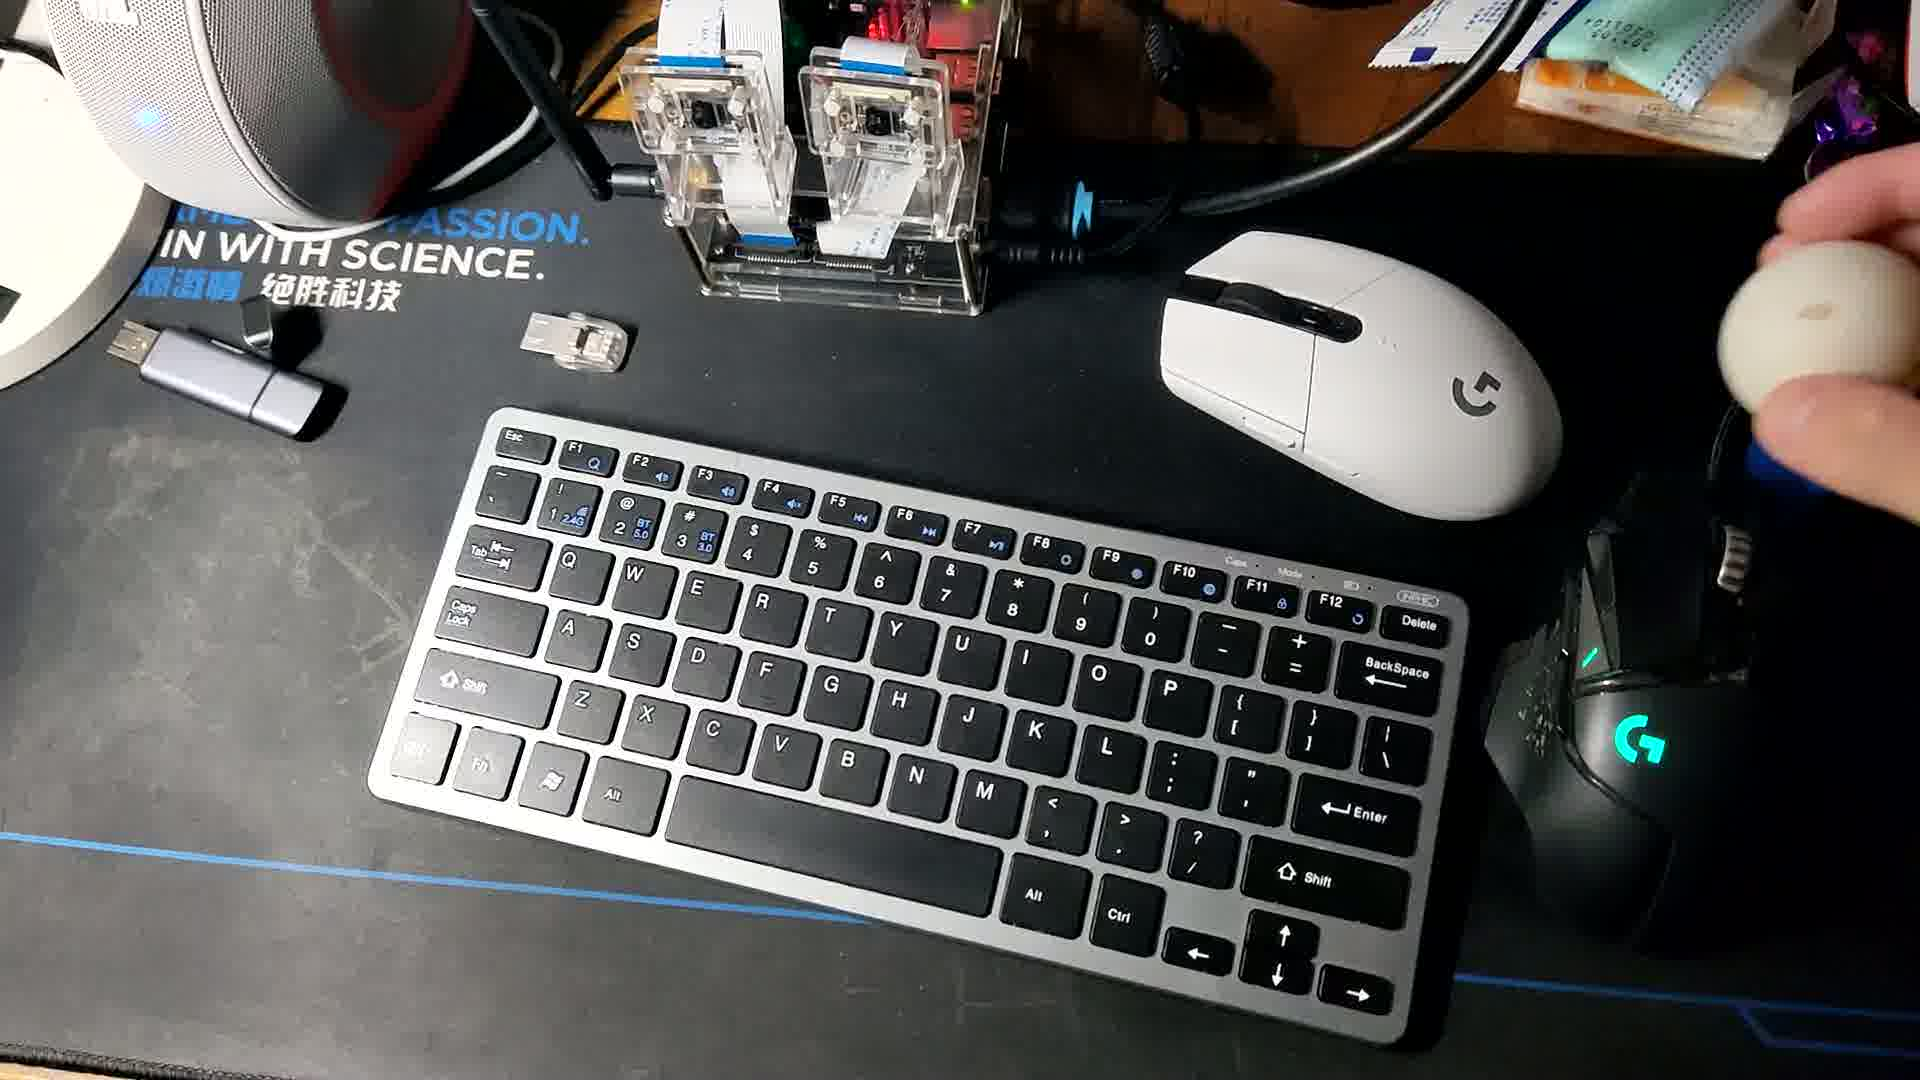Ball: (1721, 237, 1920, 456)
